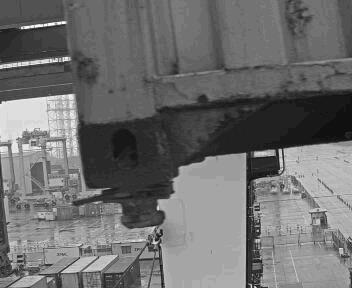twist_lock_1: (83, 176, 177, 233)
